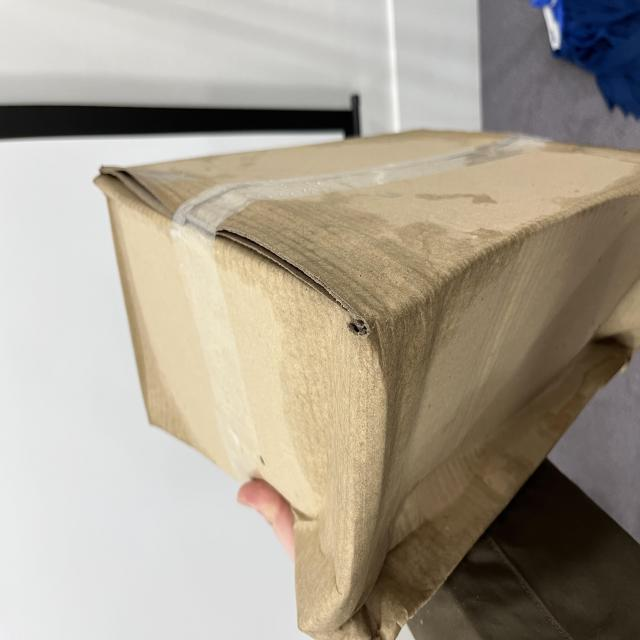wet: (32, 120, 356, 640)
